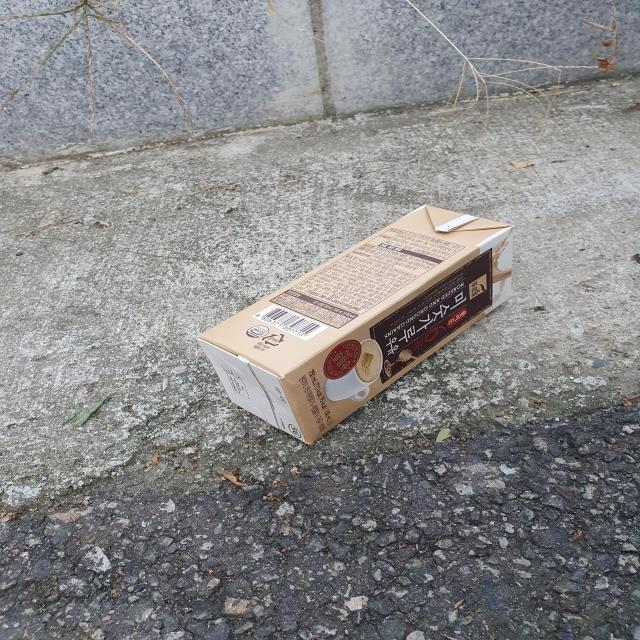paperpack: (198, 205, 514, 445)
